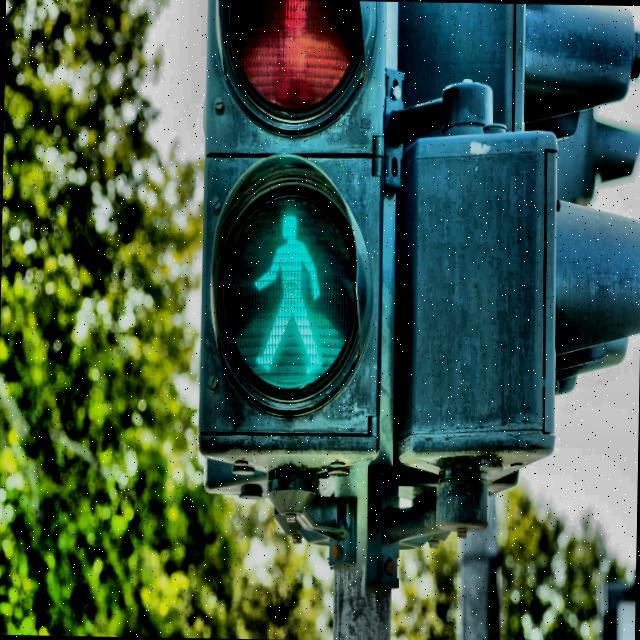green_light: (246, 208, 330, 378)
